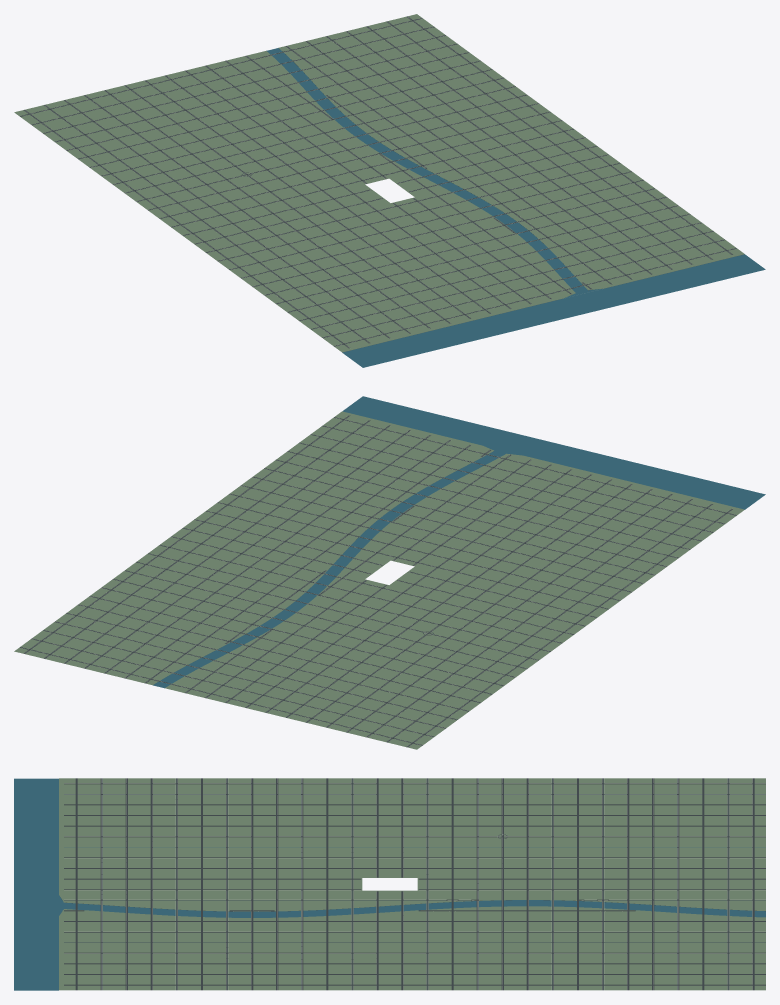
File: globalinfra.glb
The picture shows the model from 3 angles, top to bottom: view 1: azimuth 30°, elevation 25°; view 2: azimuth 150°, elevation 25°; view 3: azimuth 270°, elevation 25°; orthographic projection. The views are drawn at different scales.
Parts seen in each view (by area): view 1: GlobalInfra-terrain, GlobalInfra-asphalt, GlobalInfra-water, GlobalInfra-walk, GlobalInfra-cycle; view 2: GlobalInfra-terrain, GlobalInfra-asphalt, GlobalInfra-water, GlobalInfra-walk, GlobalInfra-cycle; view 3: GlobalInfra-terrain, GlobalInfra-asphalt, GlobalInfra-water, GlobalInfra-walk, GlobalInfra-cycle.
Part boxes in pixels (box(x1,y1,x2,y2)): GlobalInfra-terrain: box(14, 14, 744, 352); GlobalInfra-asphalt: box(19, 16, 736, 348); GlobalInfra-water: box(266, 48, 765, 367); GlobalInfra-walk: box(24, 17, 730, 347); GlobalInfra-cycle: box(23, 20, 736, 343); GlobalInfra-terrain: box(14, 411, 744, 749); GlobalInfra-asphalt: box(20, 415, 736, 747); GlobalInfra-water: box(153, 396, 765, 688); GlobalInfra-walk: box(24, 416, 728, 745); GlobalInfra-cycle: box(24, 416, 735, 745); GlobalInfra-terrain: box(59, 778, 765, 990); GlobalInfra-asphalt: box(64, 778, 765, 990); GlobalInfra-water: box(14, 778, 765, 990); GlobalInfra-walk: box(64, 778, 765, 989); GlobalInfra-cycle: box(64, 778, 765, 989).
Size of the model in its own units: 20000 by 15.21 by 30000.
